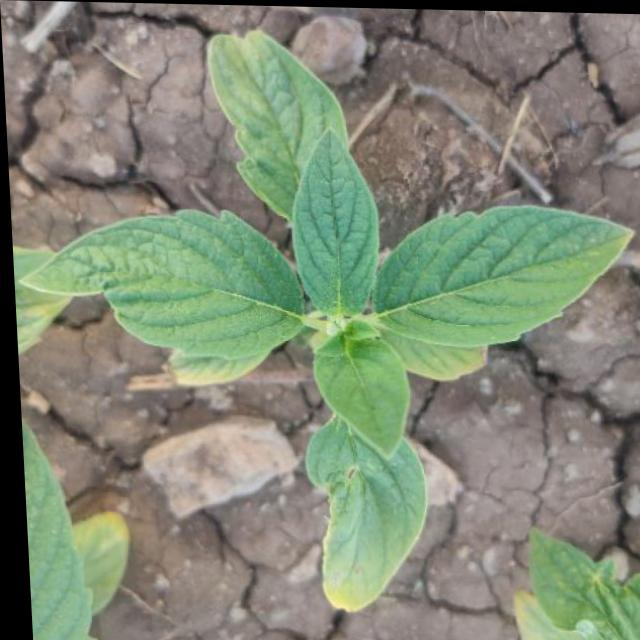crop: (49, 34, 640, 628)
